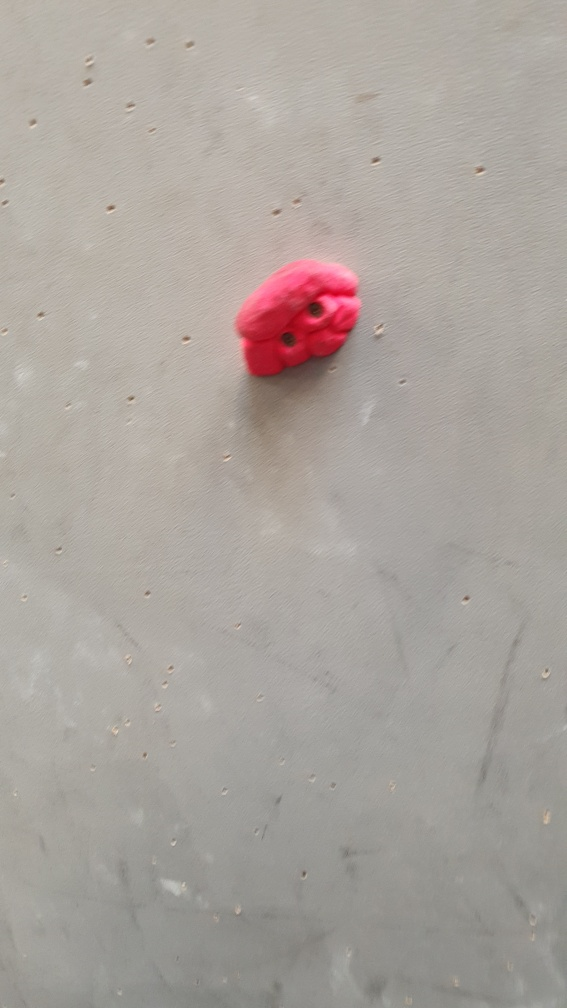Jug: (233, 252, 365, 381)
